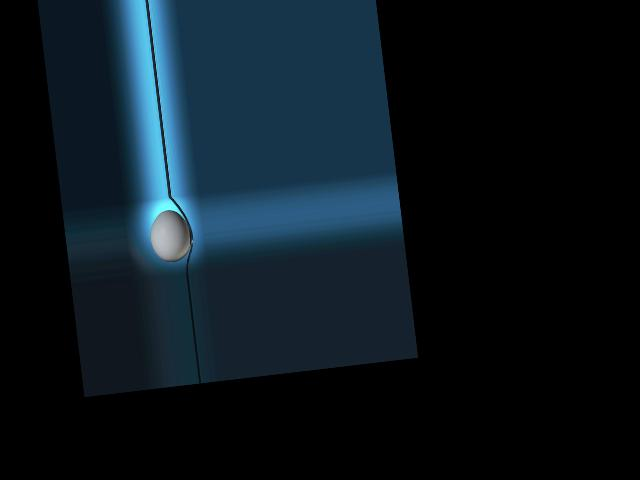egg: (148, 208, 193, 264)
